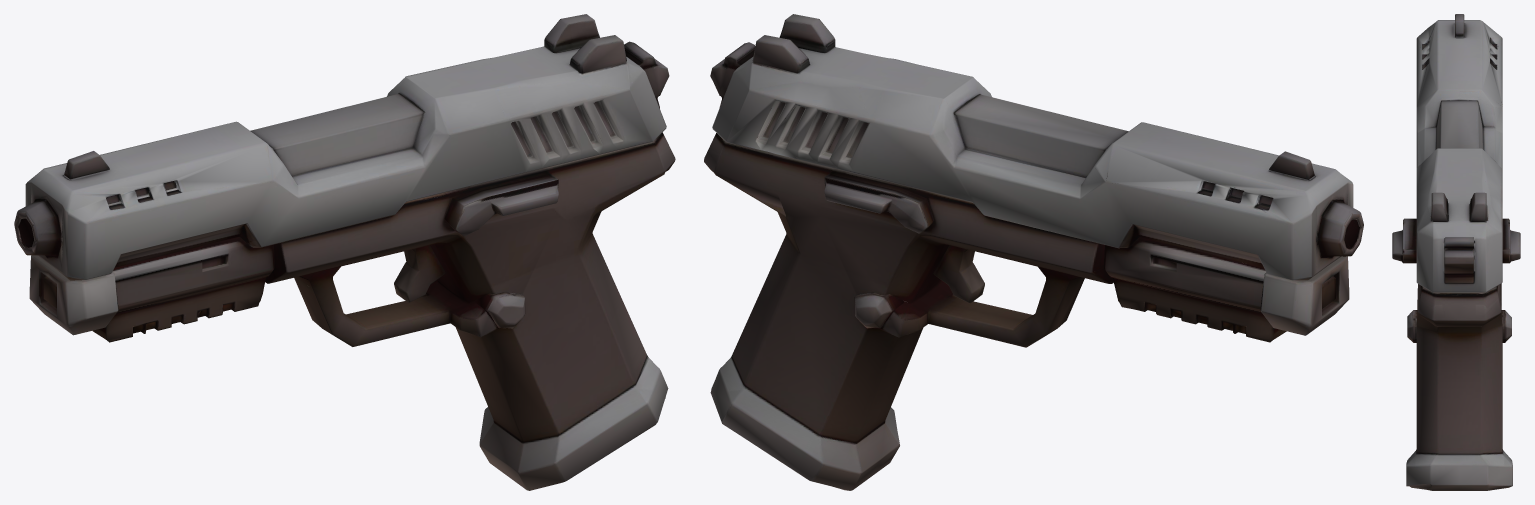
The picture shows the model from 3 angles, left to right: view 1: azimuth 30°, elevation 25°; view 2: azimuth 150°, elevation 25°; view 3: azimuth 270°, elevation 25°; orthographic projection. The views are drawn at different scales.
Parts seen in each view (by area): view 1: tripo_node_460356fc-ab20-45df-8188-25b19665ce9e; view 2: tripo_node_460356fc-ab20-45df-8188-25b19665ce9e; view 3: tripo_node_460356fc-ab20-45df-8188-25b19665ce9e.
Part boxes in pixels (x1,y1,x2,y2): tripo_node_460356fc-ab20-45df-8188-25b19665ce9e: (14, 14, 675, 490); tripo_node_460356fc-ab20-45df-8188-25b19665ce9e: (704, 14, 1363, 490); tripo_node_460356fc-ab20-45df-8188-25b19665ce9e: (1392, 14, 1520, 490).
Bounding box in the file's own units: 0.998 × 0.6465 × 0.2363.
1 material, 1 textured.
